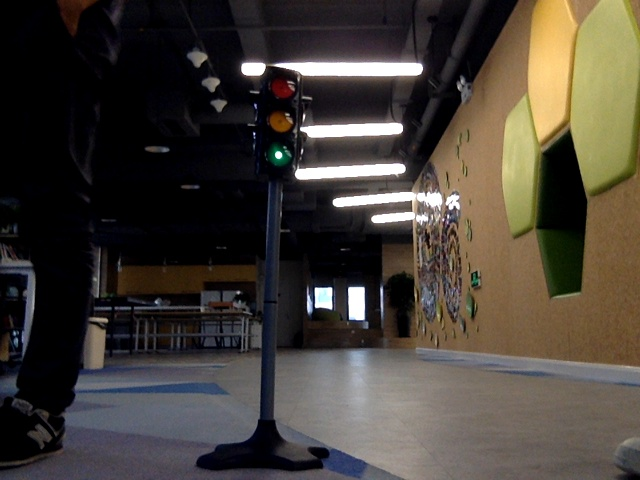green: (261, 77, 296, 167)
